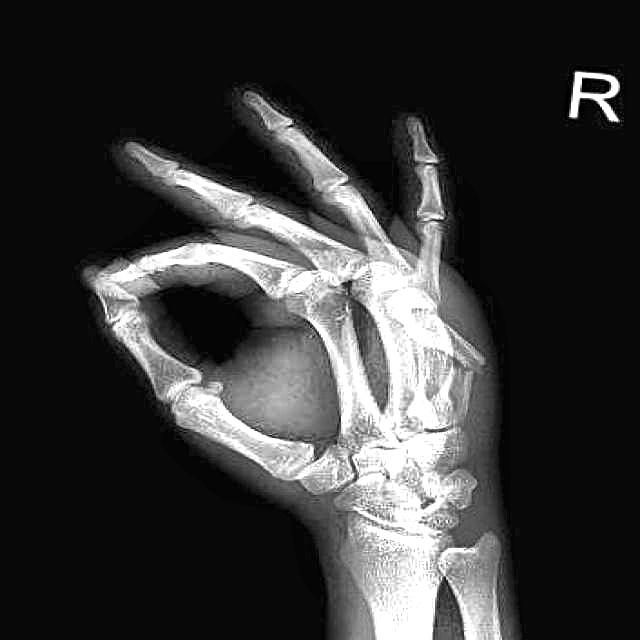Oblique: (399, 319, 493, 413)
